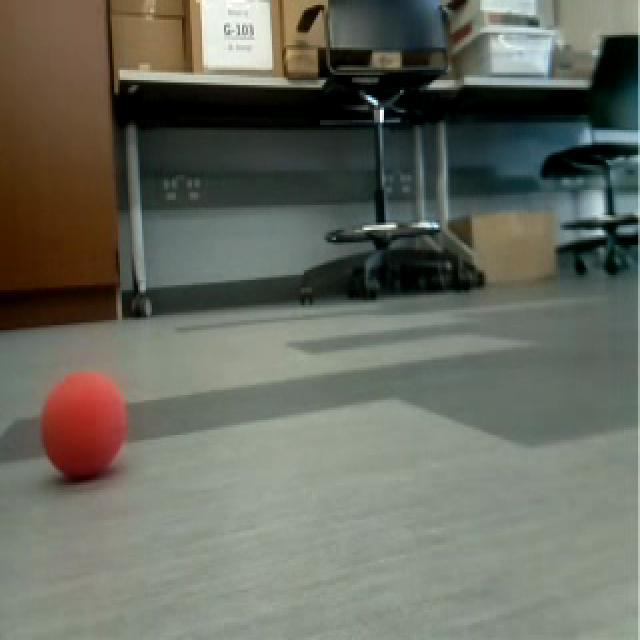oball: (38, 369, 130, 482)
